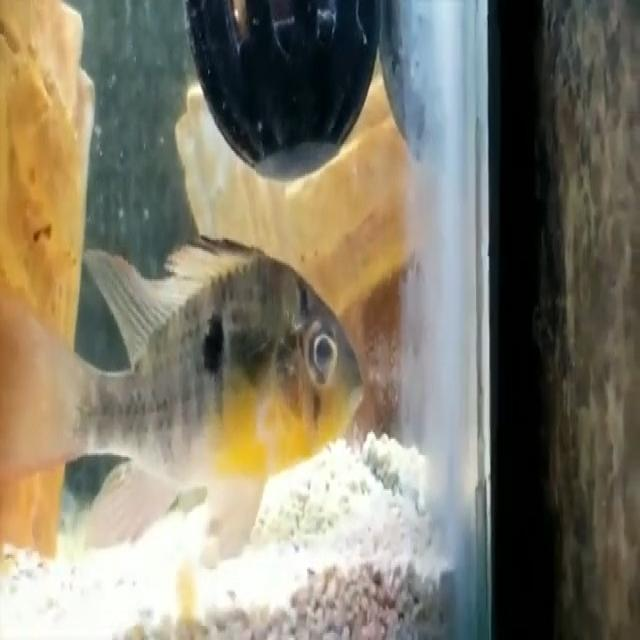fish: (4, 226, 382, 565)
